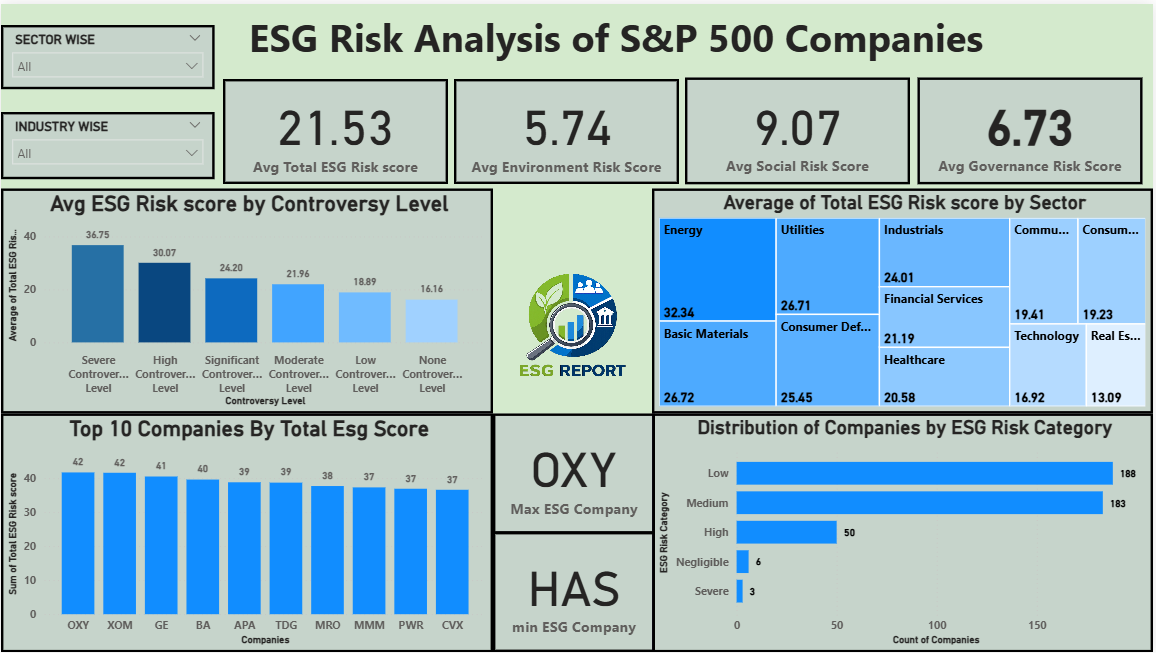

The dashboard page shown, as its layout file describes it:
{"tool":"powerbi","page":{"name":"ESG dashboard","canvas":[1280,720],"ordinal":0},"visuals":[{"type":"card","fields":{"Values":["Avg(SP 500 ESG Risk Ratings.Total ESG Risk score)"]},"box":[246.7,83.3,250,116.7],"z":0},{"type":"card","fields":{"Values":["Avg(SP 500 ESG Risk Ratings.Governance Risk Score)"]},"box":[1018.3,81.7,250,118.3],"z":1000},{"type":"card","fields":{"Values":["Avg(SP 500 ESG Risk Ratings.Social Risk Score)"]},"box":[760,81.7,250,118.3],"z":2000},{"type":"card","fields":{"Values":["Avg(SP 500 ESG Risk Ratings.Environment Risk Score)"]},"box":[503.3,83.3,250,116.7],"z":3000},{"type":"barChart","title":"Distribution of Companies by ESG Risk Category","fields":{"Category":["SP500_RISKSCORE.ESG Risk Category"],"Y":["CountNonNull(SP500_RISKSCORE.Symbol)"]},"box":[723.3,455,556.7,265],"z":4000},{"type":"slicer","fields":{"Values":["SP500_RISKSCORE.Sector"]},"box":[0,23.9,237,71.6],"z":5000},{"type":"slicer","fields":{"Values":["SP500_RISKSCORE.Industry"]},"box":[0,119.3,237,74.8],"z":6000},{"type":"columnChart","title":"Avg ESG Risk score by Controversy Level","fields":{"Category":["SP500_RISKSCORE.Controversy Level"],"Y":["Avg(SP500_RISKSCORE.Total ESG Risk score)"]},"box":[0,205,546.7,250],"z":7000},{"type":"columnChart","title":"Top 10 Companies By Total Esg Score","fields":{"Category":["SP500_RISKSCORE.Companies"],"Y":["Sum(SP500_RISKSCORE.Total ESG Risk score)"]},"box":[0,455,546.7,265],"z":8000},{"type":"image","box":[546.7,276.7,176.7,178.3],"z":9000},{"type":"textbox","box":[237,1.6,893.9,81.1],"z":10000},{"type":"treemap","fields":{"Group":["SP500_RISKSCORE.Sector"],"Values":["Avg(SP500_RISKSCORE.Total ESG Risk score)"]},"box":[723,205.6,556.5,250],"z":11000},{"type":"card","fields":{"Values":["SP500_RISKSCORE.Max ESG Company"]},"box":[546.7,455,180,133.3],"z":12000},{"type":"card","fields":{"Values":["SP500_RISKSCORE.min ESG Company"]},"box":[546.7,586.7,180,133.3],"z":13000}]}

Visuals, with their boxes in screenshot pixels (x1, y1, x2, y2), scaled from the page's 1280x720 canvas onto the 1156x653 screenshot:
card - Avg(SP 500 ESG Risk Ratings.Total ESG Risk score): [223,76,449,181]
card - Avg(SP 500 ESG Risk Ratings.Governance Risk Score): [920,74,1145,181]
card - Avg(SP 500 ESG Risk Ratings.Social Risk Score): [686,74,912,181]
card - Avg(SP 500 ESG Risk Ratings.Environment Risk Score): [455,76,680,181]
"Distribution of Companies by ESG Risk Category" barChart: [653,413,1155,652]
slicer - SP500_RISKSCORE.Sector: [0,22,214,87]
slicer - SP500_RISKSCORE.Industry: [0,108,214,176]
"Avg ESG Risk score by Controversy Level" columnChart: [0,186,494,413]
"Top 10 Companies By Total Esg Score" columnChart: [0,413,494,652]
image: [494,251,653,413]
textbox: [214,1,1021,75]
treemap - SP500_RISKSCORE.Sector x Avg(SP500_RISKSCORE.Total ESG Risk score): [653,186,1155,413]
card - SP500_RISKSCORE.Max ESG Company: [494,413,656,534]
card - SP500_RISKSCORE.min ESG Company: [494,532,656,652]
